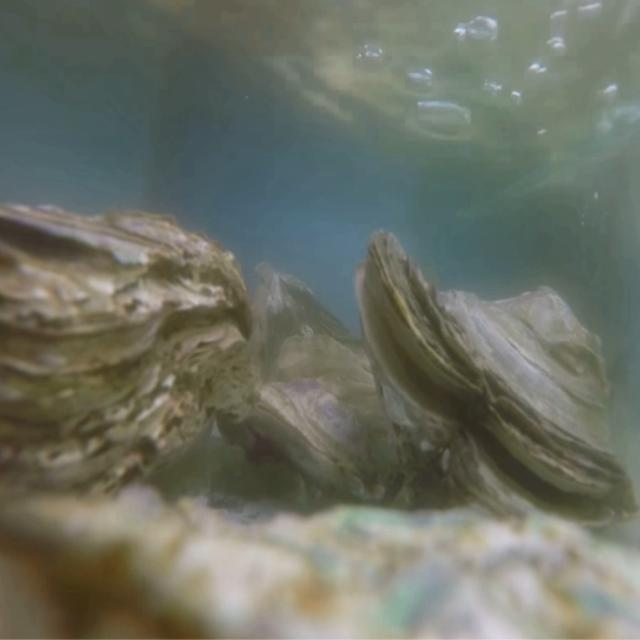Oyster-Closed: (0, 202, 256, 542), (252, 336, 417, 515)
Oyster-Indeterminate: (0, 487, 640, 640)
Oyster-Open: (355, 228, 640, 545)
